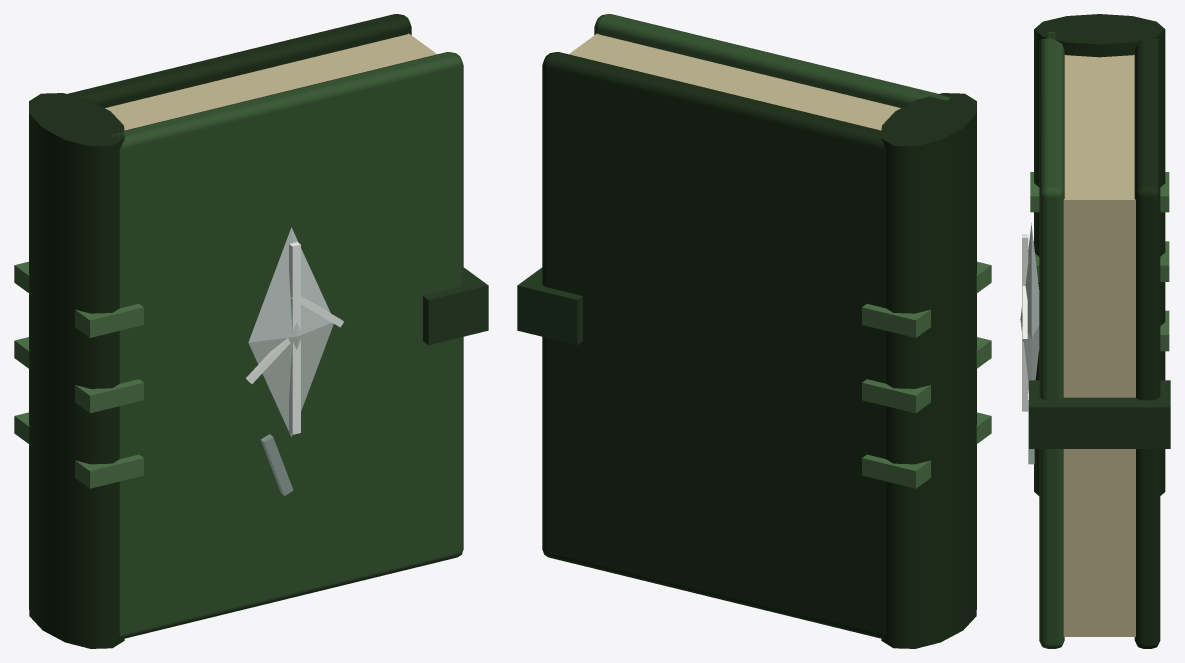
The model's file is tome_silverleaf.glb.
3 renders of one model, left to right at view 1: azimuth 30°, elevation 25°; view 2: azimuth 150°, elevation 25°; view 3: azimuth 270°, elevation 25°, orthographic. The views are drawn at different scales.
Visible parts, largest first — view 1: InscriptionTomeSilverleaf_TomeOpaque, InscriptionTomeSilverleaf_TomeMetal; view 2: InscriptionTomeSilverleaf_TomeOpaque; view 3: InscriptionTomeSilverleaf_TomeOpaque, InscriptionTomeSilverleaf_TomeMetal.
Boxes of the visible parts, left/top/right/bottom form: InscriptionTomeSilverleaf_TomeOpaque: left=14, top=14, right=488, bottom=648; InscriptionTomeSilverleaf_TomeMetal: left=246, top=227, right=343, bottom=495; InscriptionTomeSilverleaf_TomeOpaque: left=517, top=14, right=991, bottom=648; InscriptionTomeSilverleaf_TomeOpaque: left=1029, top=14, right=1170, bottom=648; InscriptionTomeSilverleaf_TomeMetal: left=1020, top=223, right=1039, bottom=464.
Bounding box in the file's own units: 0.3394 × 0.4 × 0.1177.
